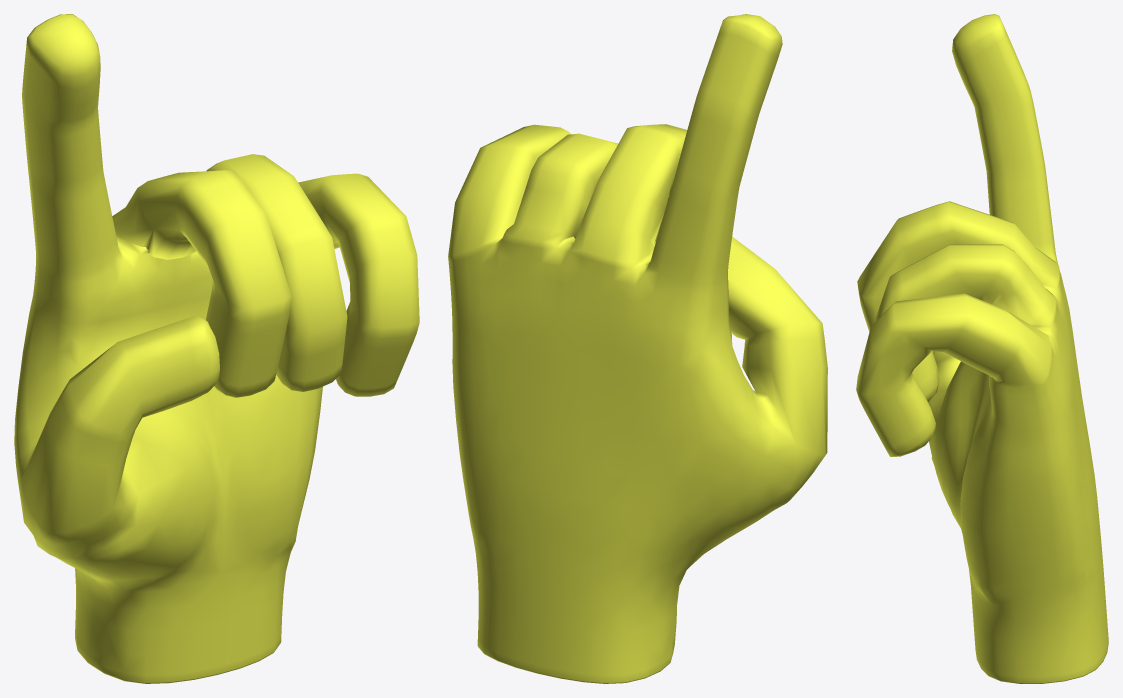
3 views of the same model, side by side, from view 1: azimuth 30°, elevation 25°; view 2: azimuth 150°, elevation 25°; view 3: azimuth 270°, elevation 25° (orthographic). The views are drawn at different scales.
Parts seen in each view (by area): view 1: uploads_files_810024_Hand; view 2: uploads_files_810024_Hand; view 3: uploads_files_810024_Hand.
Boxes of the visible parts, x1,y1,x2,y2 form: uploads_files_810024_Hand: [14, 14, 419, 683]; uploads_files_810024_Hand: [448, 14, 827, 683]; uploads_files_810024_Hand: [856, 14, 1108, 683].
Size of the model in its own units: 1.41 by 2.66 by 1.06.
